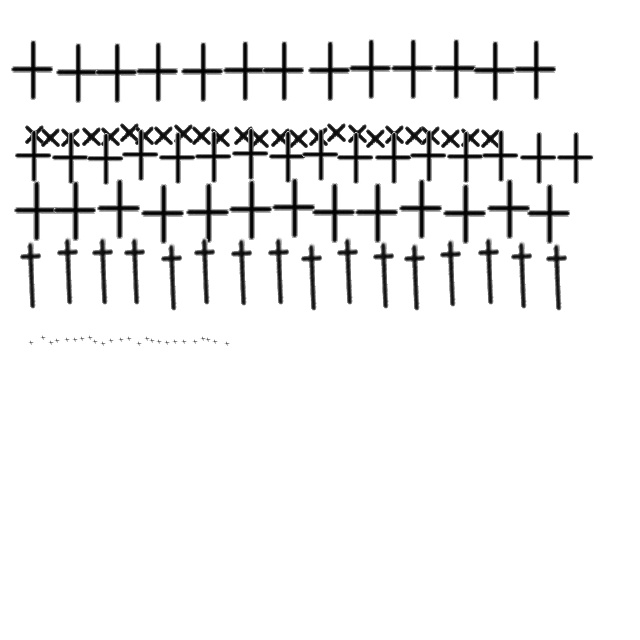double: (8, 40, 56, 102), (178, 42, 226, 104), (138, 184, 186, 246), (226, 180, 274, 242), (269, 178, 317, 240), (440, 184, 488, 246), (524, 184, 572, 246), (92, 44, 140, 104), (220, 42, 268, 102), (346, 40, 394, 100), (388, 40, 436, 100), (470, 42, 518, 102), (11, 182, 59, 242), (50, 182, 98, 242), (94, 180, 142, 240), (183, 184, 231, 244), (309, 184, 357, 244), (352, 184, 400, 244), (396, 180, 444, 240), (484, 180, 532, 240), (134, 42, 180, 104), (512, 40, 558, 102), (54, 44, 100, 104), (260, 42, 306, 102), (306, 42, 352, 102), (432, 40, 478, 100), (12, 130, 54, 184), (156, 132, 198, 186), (334, 132, 376, 186), (372, 132, 414, 186), (554, 132, 596, 186), (84, 134, 126, 186), (192, 132, 234, 184), (266, 132, 308, 184), (444, 132, 486, 184), (50, 132, 90, 186), (230, 128, 270, 182), (408, 130, 448, 184), (480, 130, 520, 184), (518, 132, 558, 186), (120, 130, 160, 182), (300, 130, 340, 182), (80, 124, 104, 148), (118, 120, 142, 144), (152, 123, 176, 147), (172, 121, 196, 145), (190, 123, 214, 147), (232, 123, 256, 147), (248, 126, 272, 150), (346, 121, 370, 145), (364, 126, 388, 150), (24, 122, 46, 146), (40, 125, 62, 149), (60, 125, 82, 149), (100, 124, 122, 148), (134, 123, 156, 147), (210, 125, 232, 149), (270, 125, 292, 149), (288, 126, 310, 150), (308, 124, 330, 148), (326, 120, 348, 144), (384, 122, 406, 146), (404, 123, 426, 147), (420, 123, 442, 147), (440, 126, 462, 150), (460, 125, 482, 149), (480, 126, 502, 150), (28, 340, 34, 346), (48, 340, 54, 346), (54, 338, 60, 344), (79, 336, 85, 342), (108, 338, 114, 344), (126, 336, 132, 342), (144, 336, 150, 342), (149, 338, 155, 344), (164, 340, 170, 346), (200, 336, 206, 342), (40, 336, 46, 340), (64, 338, 70, 342), (72, 338, 78, 342), (87, 336, 93, 340), (92, 340, 98, 344), (100, 342, 106, 346), (118, 338, 124, 342), (136, 342, 142, 346), (156, 340, 162, 344), (172, 340, 178, 344), (181, 340, 187, 344), (192, 340, 198, 344), (205, 338, 211, 342), (212, 340, 218, 344), (224, 342, 230, 346)
enseble_chain: (223, 238, 263, 308), (12, 242, 52, 310), (49, 238, 89, 306), (84, 238, 124, 306), (116, 238, 156, 306), (153, 244, 193, 312), (186, 238, 226, 306), (260, 238, 300, 306), (293, 244, 333, 312), (329, 238, 369, 306), (365, 242, 405, 310), (396, 244, 436, 312), (432, 240, 472, 308), (470, 238, 510, 306), (503, 242, 543, 310), (538, 244, 578, 312)
